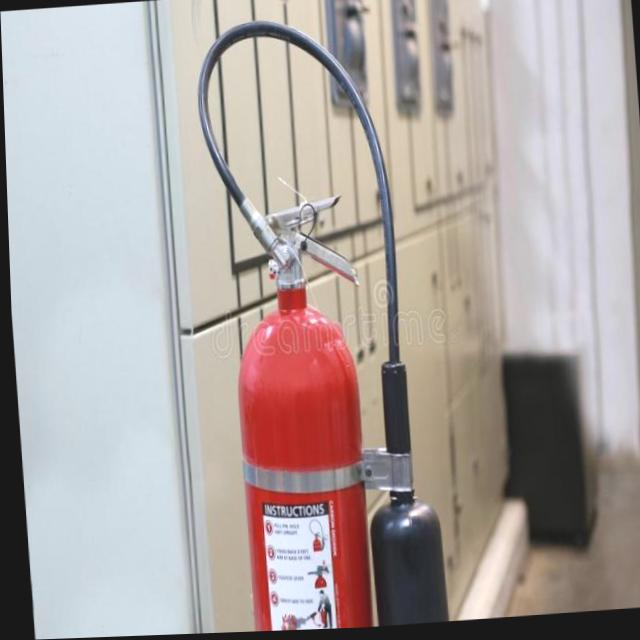FireExtinguisher: (187, 7, 449, 635)
